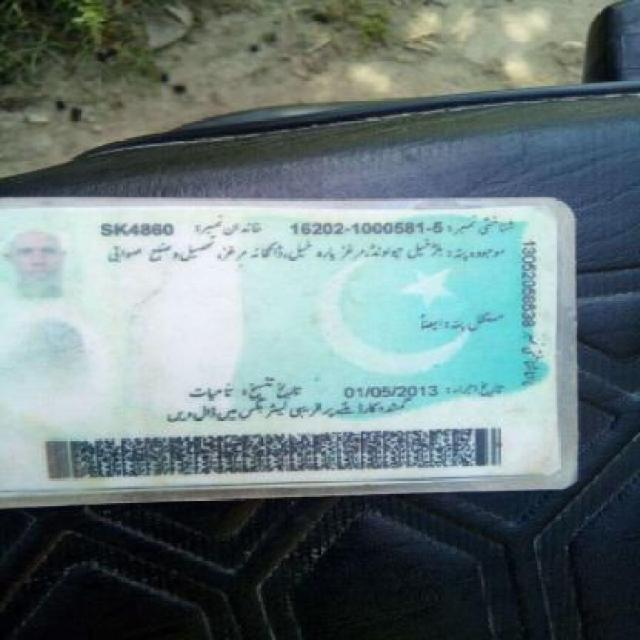Back: (6, 197, 569, 488)
